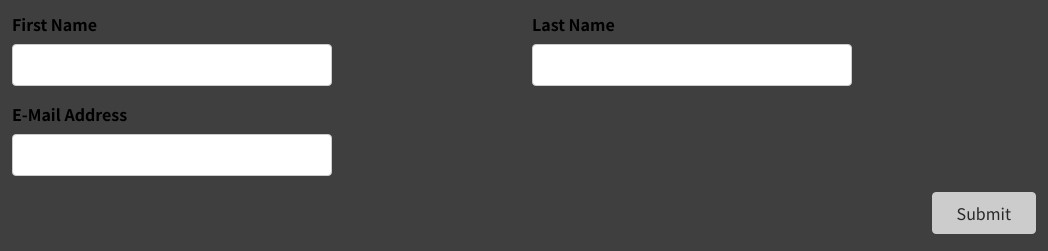
Test case: BasicForm › keeps submit button disabled until all inputs are valid
The width and height of the screenshot is (1048, 251).
Expected: the button "Submit" is disabled, left=932, top=192, right=1036, bottom=234
Type "test" into the field labelled "First Name" at (172, 65), box left=12, top=44, right=332, bottom=86
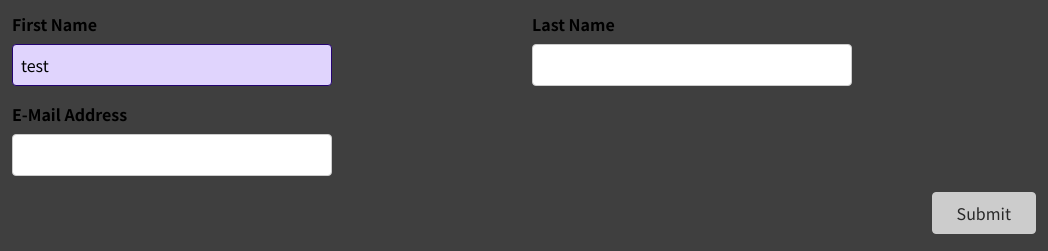
Expected: the button "Submit" is disabled, left=932, top=192, right=1036, bottom=234
Type "test" into the field labelled "Last Name" at (692, 65), box left=532, top=44, right=852, bottom=86
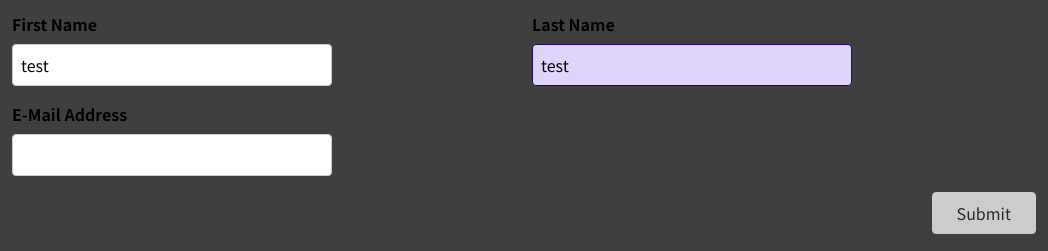
Expected: the button "Submit" is disabled, left=932, top=192, right=1036, bottom=234
Type "test@test.com" into the field labelled "E-Mail Address" at (172, 155), box left=12, top=134, right=332, bottom=176
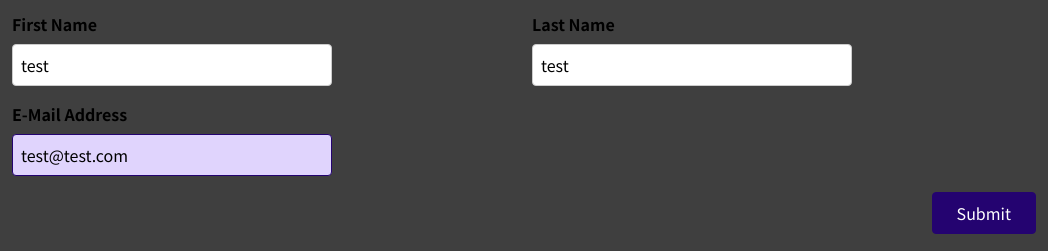
Expected: the button "Submit" is enabled, left=932, top=192, right=1036, bottom=234
